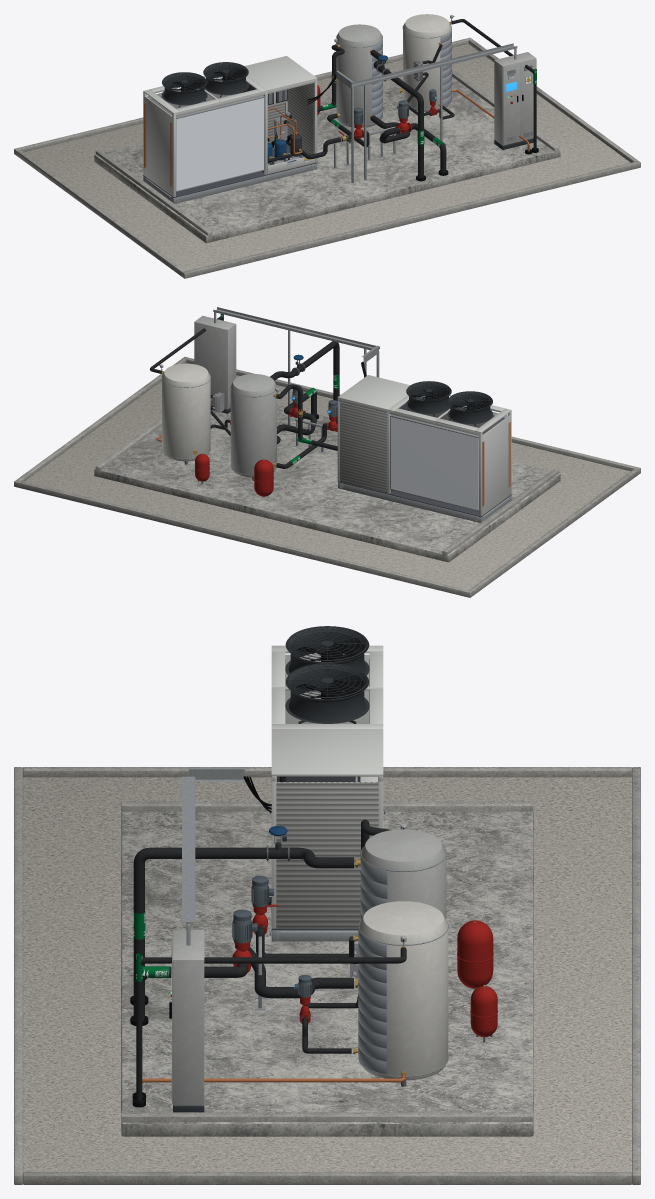
The model's file is heatpump_rig.glb.
3 views of the same model, one above another, from view 1: azimuth 30°, elevation 25°; view 2: azimuth 150°, elevation 25°; view 3: azimuth 270°, elevation 25° (orthographic). The views are drawn at different scales.
Parts seen in each view (by area): view 1: Site_Plinth, Unit_Casing, Coil_Frost, Plant_Base, Control_Panel, Hydronic_Pipework, Fan_1_Shroud, Fan_2_Shroud, Pumps, Coil_Front, Coil_Rear, Refrigerant_Pipework; view 2: Site_Plinth, Unit_Casing, Plant_Base, Coil_Frost, Control_Panel, Hydronic_Pipework, Fan_1_Shroud, Fan_2_Shroud, Expansion_Vessels, Coil_Rear, Coil_Front, Pumps; view 3: Site_Plinth, Unit_Casing, Plant_Base, Hydronic_Pipework, Control_Panel, Fan_2_Shroud, Expansion_Vessels, Fan_1_Shroud, Pumps.
Part boxes in pixels (bbox=[...]): Site_Plinth: bbox=[14, 37, 640, 278]; Unit_Casing: bbox=[143, 56, 317, 203]; Coil_Frost: bbox=[176, 98, 263, 190]; Plant_Base: bbox=[336, 14, 451, 128]; Control_Panel: bbox=[307, 43, 536, 182]; Hydronic_Pipework: bbox=[283, 15, 538, 181]; Fan_1_Shroud: bbox=[161, 72, 207, 107]; Fan_2_Shroud: bbox=[203, 62, 248, 97]; Pumps: bbox=[354, 89, 437, 139]; Coil_Front: bbox=[170, 95, 264, 191]; Coil_Rear: bbox=[144, 78, 238, 167]; Refrigerant_Pipework: bbox=[267, 104, 302, 162]; Site_Plinth: bbox=[14, 356, 640, 597]; Unit_Casing: bbox=[337, 375, 511, 522]; Plant_Base: bbox=[161, 363, 277, 480]; Coil_Frost: bbox=[391, 417, 478, 509]; Control_Panel: bbox=[194, 307, 379, 424]; Hydronic_Pipework: bbox=[150, 314, 339, 468]; Fan_1_Shroud: bbox=[447, 391, 493, 426]; Fan_2_Shroud: bbox=[406, 381, 451, 416]; Expansion_Vessels: bbox=[194, 453, 273, 497]; Coil_Rear: bbox=[390, 414, 484, 511]; Coil_Front: bbox=[416, 396, 510, 487]; Pumps: bbox=[230, 385, 337, 431]; Site_Plinth: bbox=[14, 767, 640, 1184]; Unit_Casing: bbox=[269, 645, 385, 941]; Plant_Base: bbox=[353, 829, 448, 1086]; Hydronic_Pipework: bbox=[130, 819, 406, 1107]; Control_Panel: bbox=[169, 767, 271, 1112]; Fan_2_Shroud: bbox=[285, 663, 369, 723]; Expansion_Vessels: bbox=[457, 920, 498, 1042]; Fan_1_Shroud: bbox=[285, 626, 369, 675]; Pumps: bbox=[232, 875, 312, 1023].
Size of the model in its own units: 10.8 by 2.86 by 7.
Materials: 39 (30 with a texture image).
